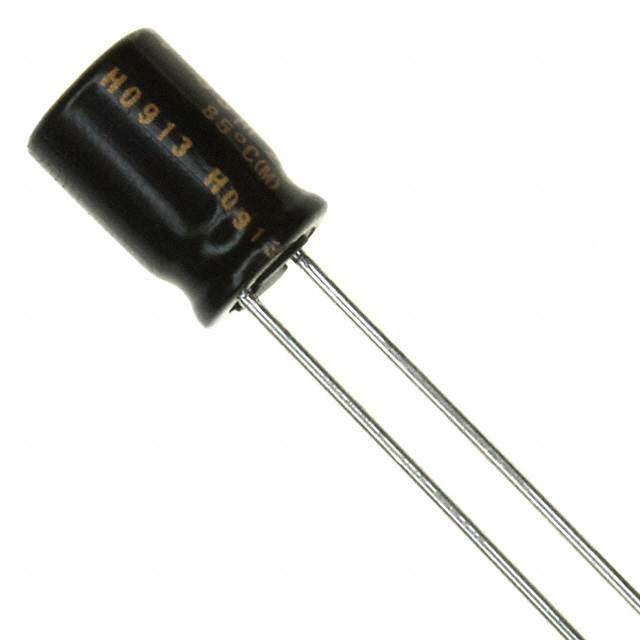Capacitor: (28, 28, 640, 640)
